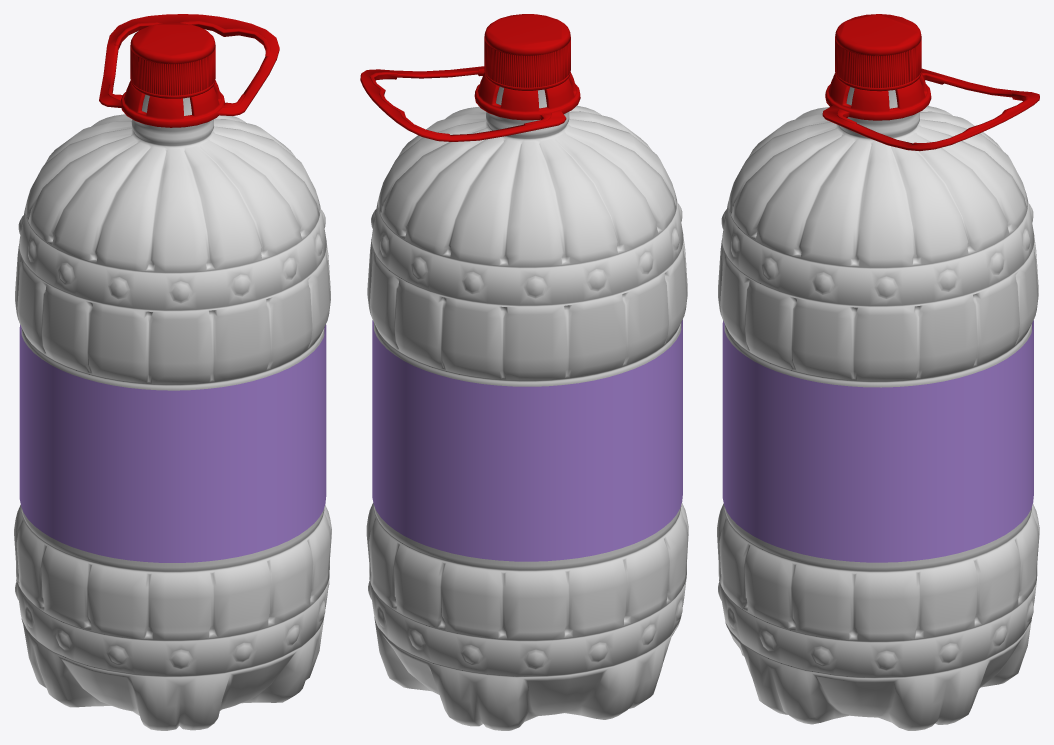
The model's file is WaterBottle.fbx.
The picture shows the model from 3 angles, left to right: view 1: azimuth 30°, elevation 25°; view 2: azimuth 150°, elevation 25°; view 3: azimuth 270°, elevation 25°; orthographic projection.
Parts seen in each view (by area): view 1: Bottle; view 2: Bottle; view 3: Bottle.
Part boxes in pixels (x1=…): Bottle: x1=14, y1=14, x2=331, y2=730; Bottle: x1=360, y1=14, x2=688, y2=730; Bottle: x1=717, y1=14, x2=1039, y2=730.
Bounding box in the file's own units: 10.47 × 23.34 × 10.49.
